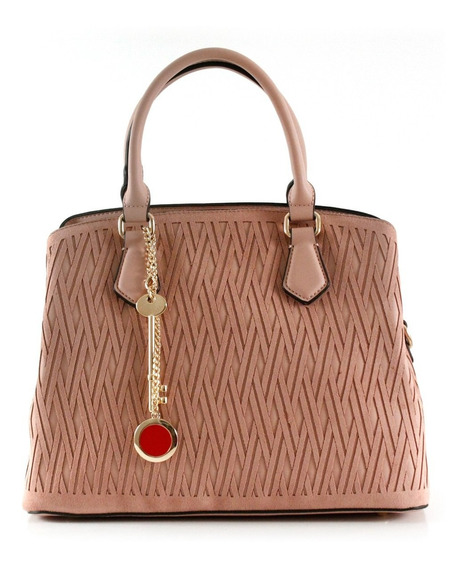cartera: (22, 46, 435, 524)
